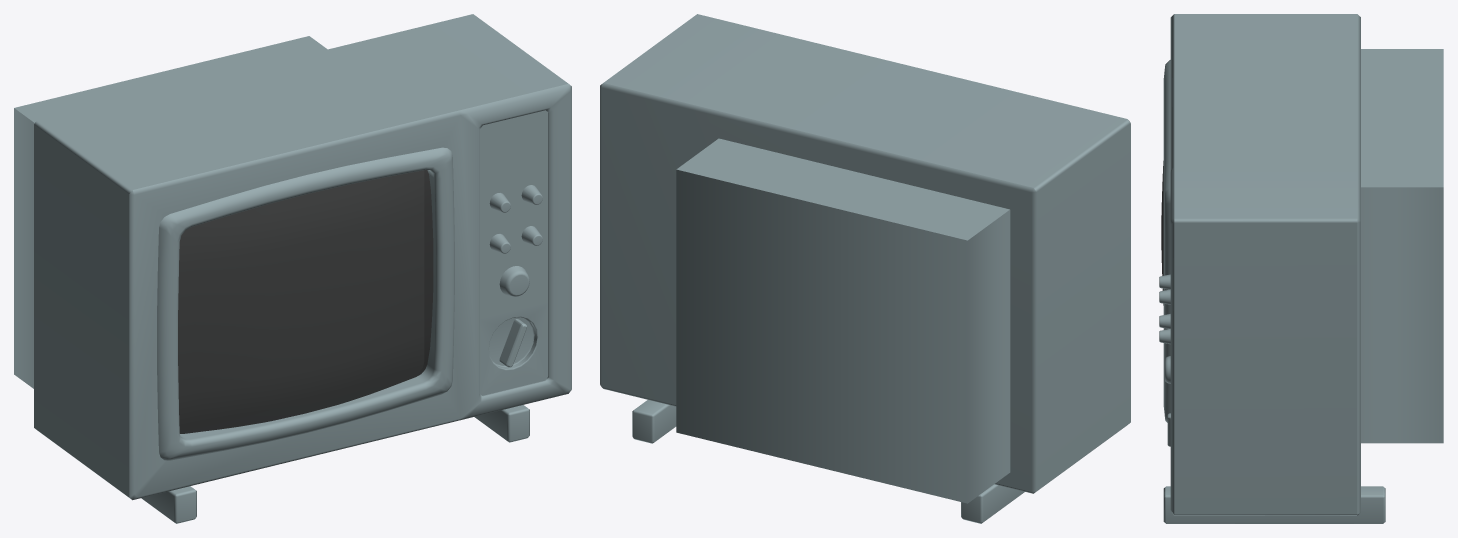
File: SM_TV_70S_B_Small.fbx
3 renders of one model, left to right at view 1: azimuth 30°, elevation 25°; view 2: azimuth 150°, elevation 25°; view 3: azimuth 270°, elevation 25°, orthographic. The views are drawn at different scales.
Visible parts, largest first — view 1: SM_Television_70_B, SM_Glass; view 2: SM_Television_70_B; view 3: SM_Television_70_B.
Boxes of the visible parts, box(x1,y1,x2,y2) form: SM_Television_70_B: box(14, 14, 571, 523); SM_Glass: box(178, 170, 433, 433); SM_Television_70_B: box(600, 14, 1130, 523); SM_Television_70_B: box(1159, 14, 1443, 523).
Size of the model in its own units: 1637 by 1203 by 949.
